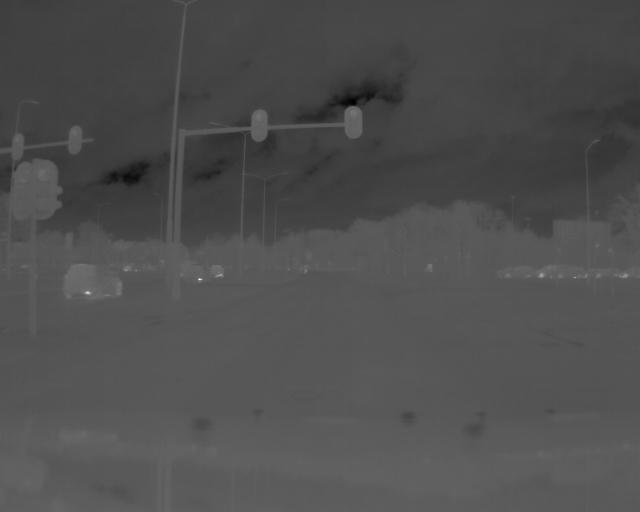car: (62, 262, 126, 304), (500, 262, 536, 281), (536, 260, 565, 282)
